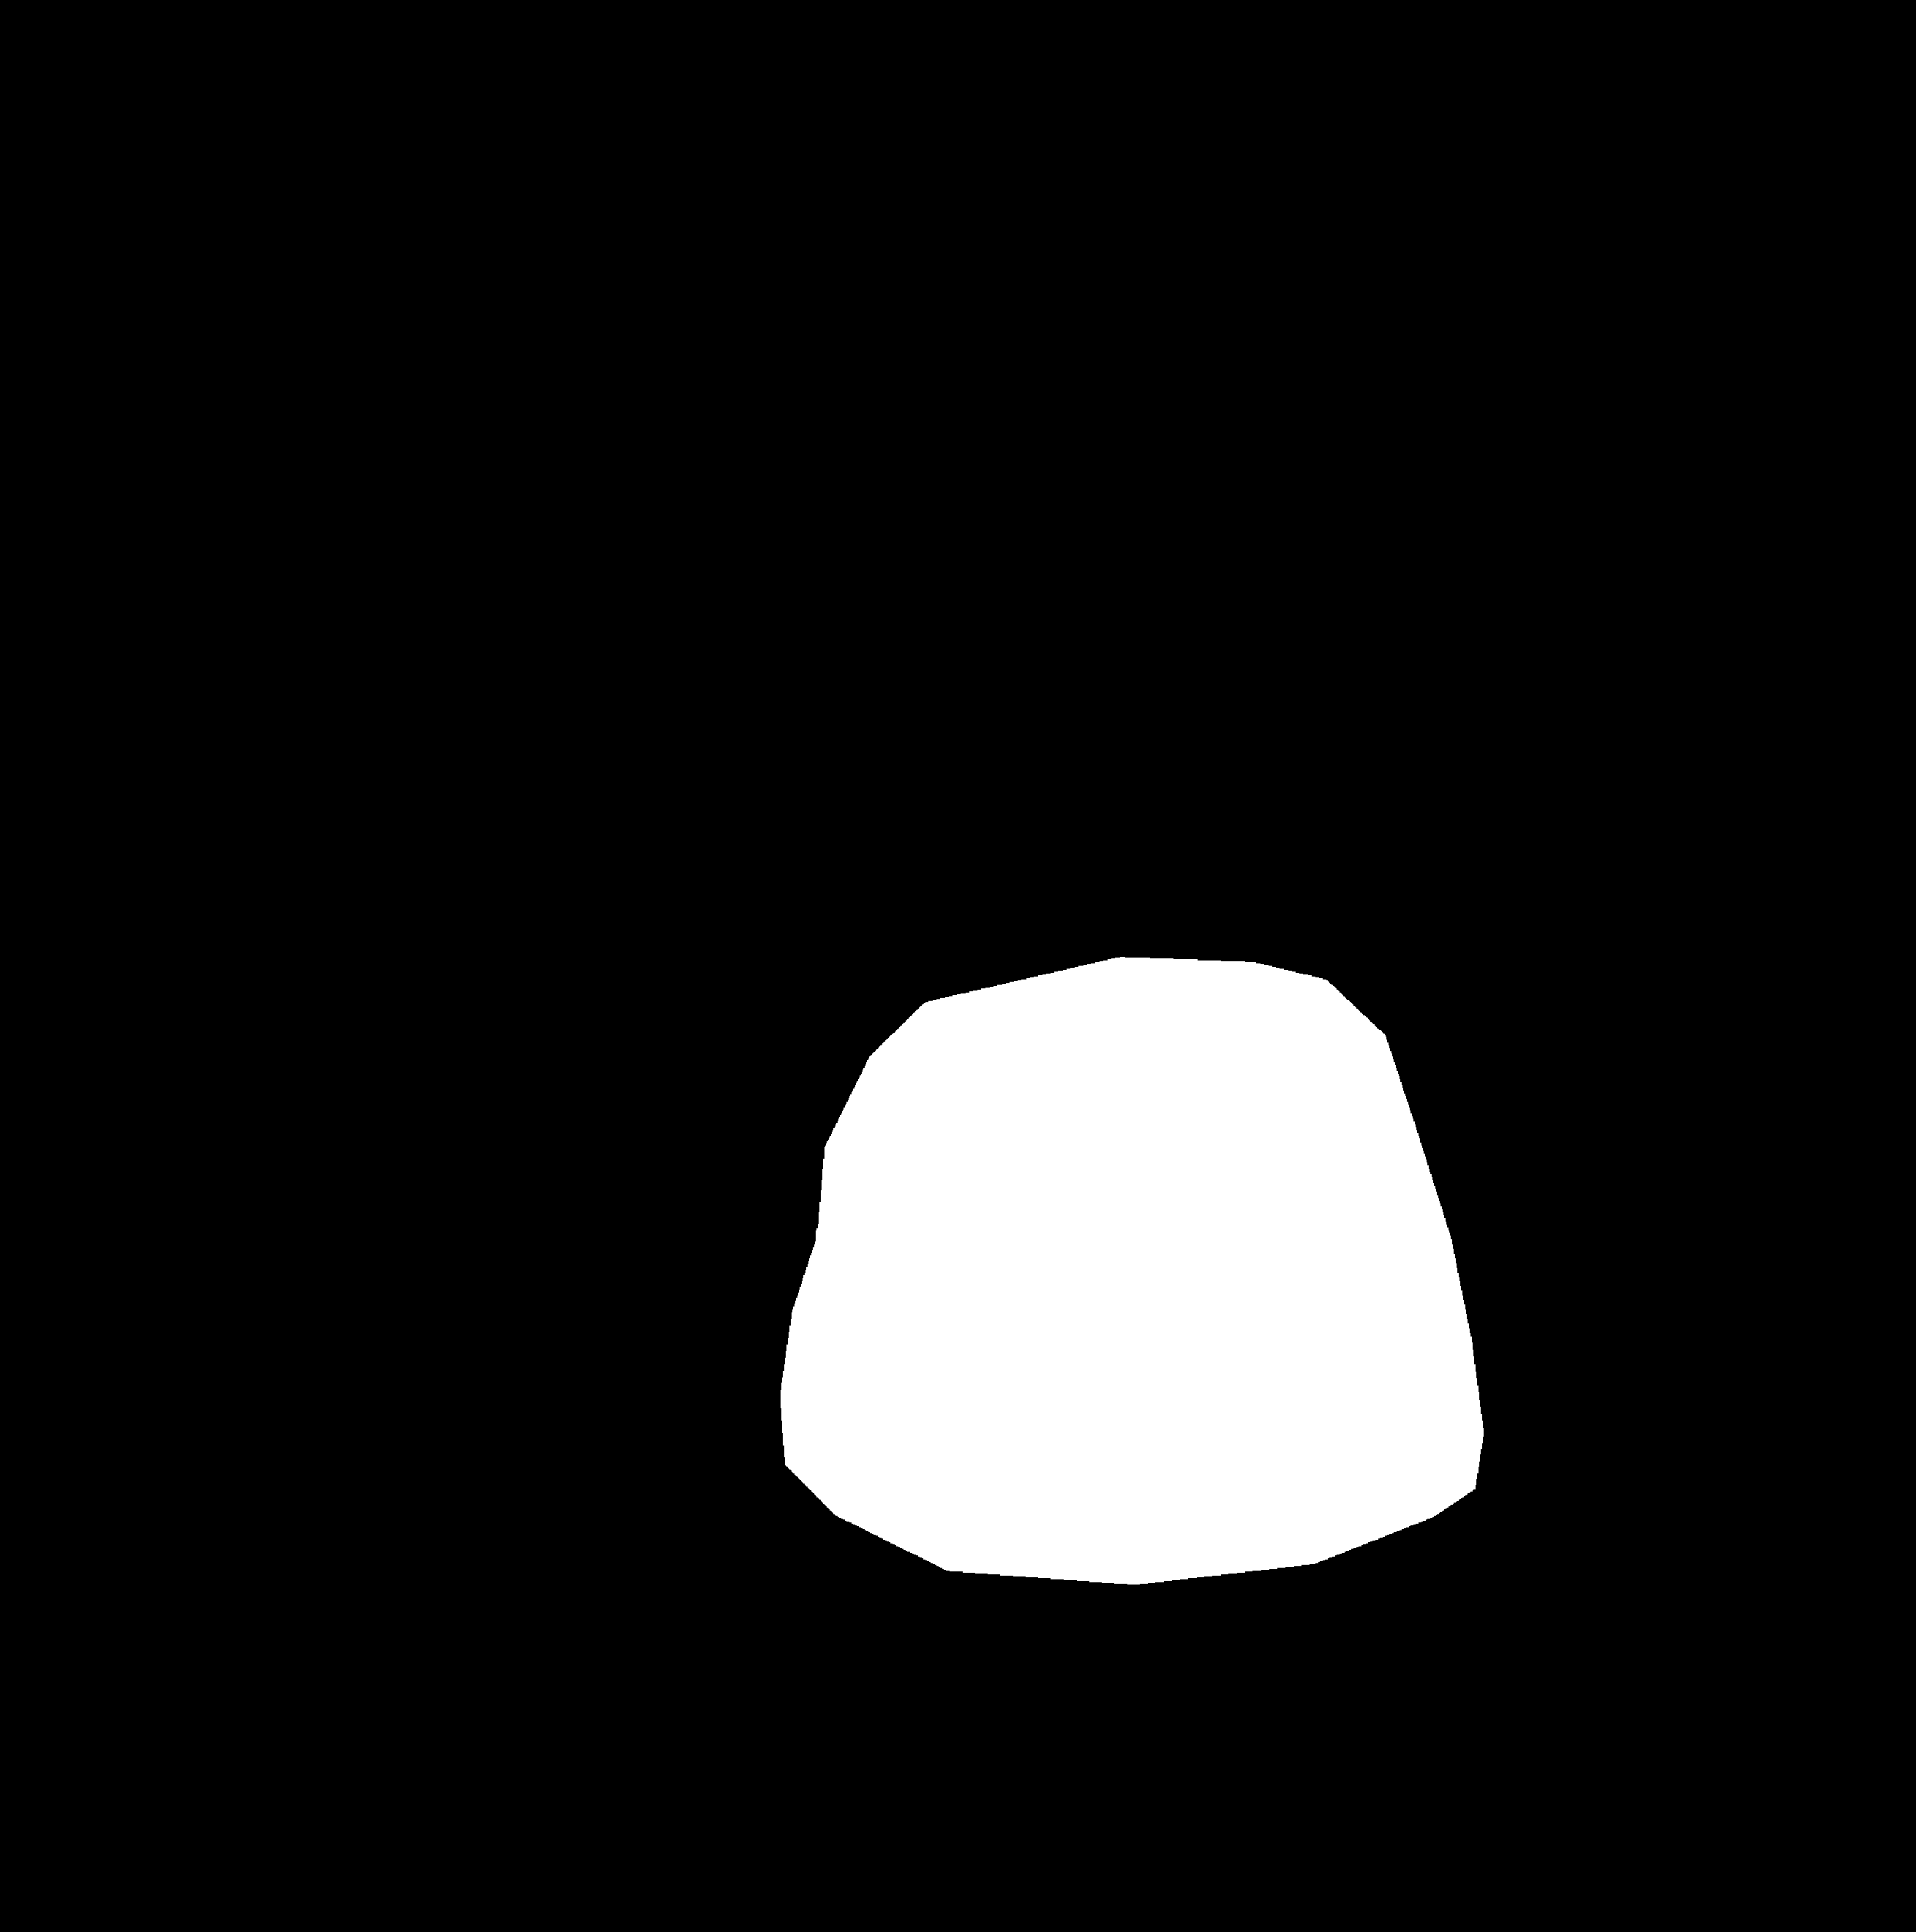heart: (776, 1069, 1498, 1607)
left_lung: (282, 302, 835, 1785)
right_lung: (1149, 374, 1581, 1493)
